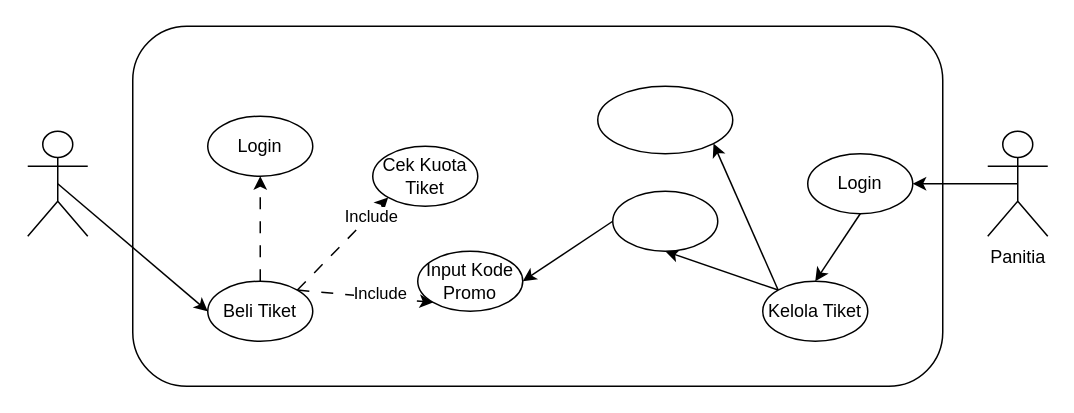
Image size: 1074x413. Some labels were removed from this diagram. The box of each missing label's shape, as (x1, y1, x2, y2) in pixels:
Kelola Jumlah Kuota: (596, 85, 733, 154)
Pembeli: (26, 130, 88, 236)
Set Kode Promo: (611, 190, 718, 251)
